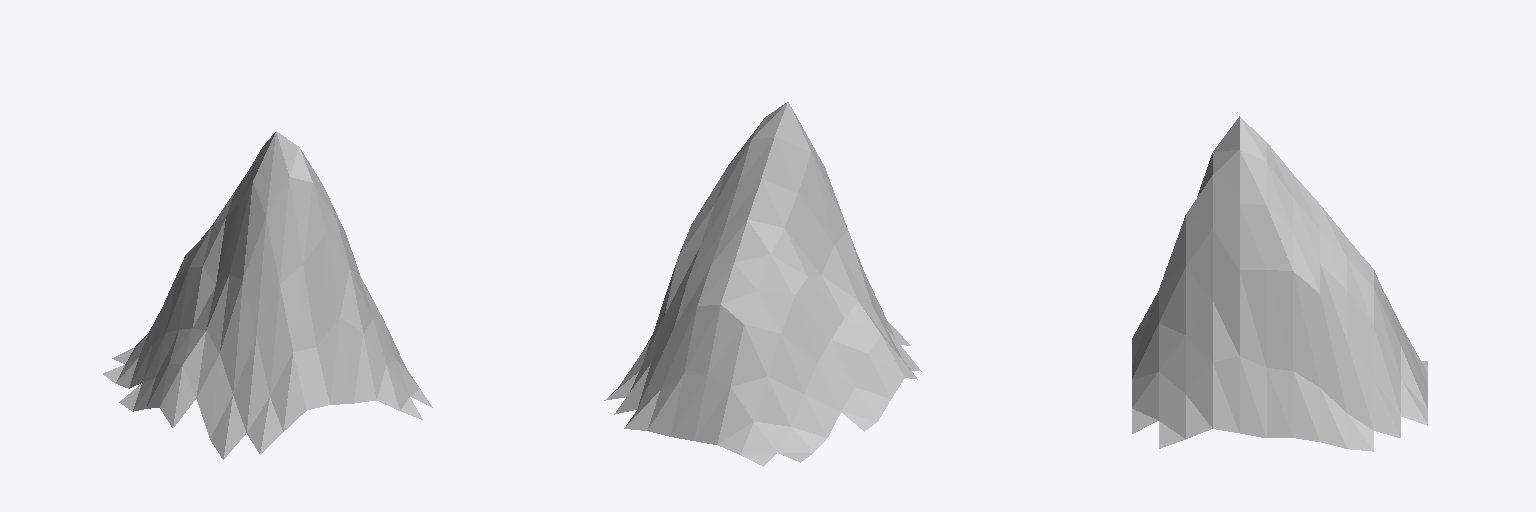
The model's file is tree_25.obj.
3 renders of one model, left to right at view 1: azimuth 30°, elevation 25°; view 2: azimuth 150°, elevation 25°; view 3: azimuth 270°, elevation 25°, orthographic.
Parts seen in each view (by area): view 1: tree_25; view 2: tree_25; view 3: tree_25.
Part boxes in pixels (x1,y1,x2,y2): tree_25: (103, 131, 432, 459); tree_25: (604, 102, 921, 466); tree_25: (1132, 116, 1427, 451).
Size of the model in its own units: 10 by 11.44 by 11.